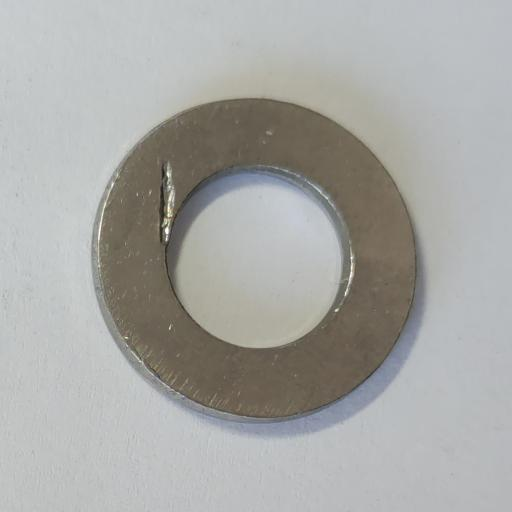scratch: (159, 159, 176, 246)
